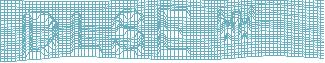D: (20, 10, 61, 60)
E: (154, 5, 192, 59)
L: (68, 11, 103, 59)
S: (109, 7, 146, 59)
w: (214, 4, 256, 46)
